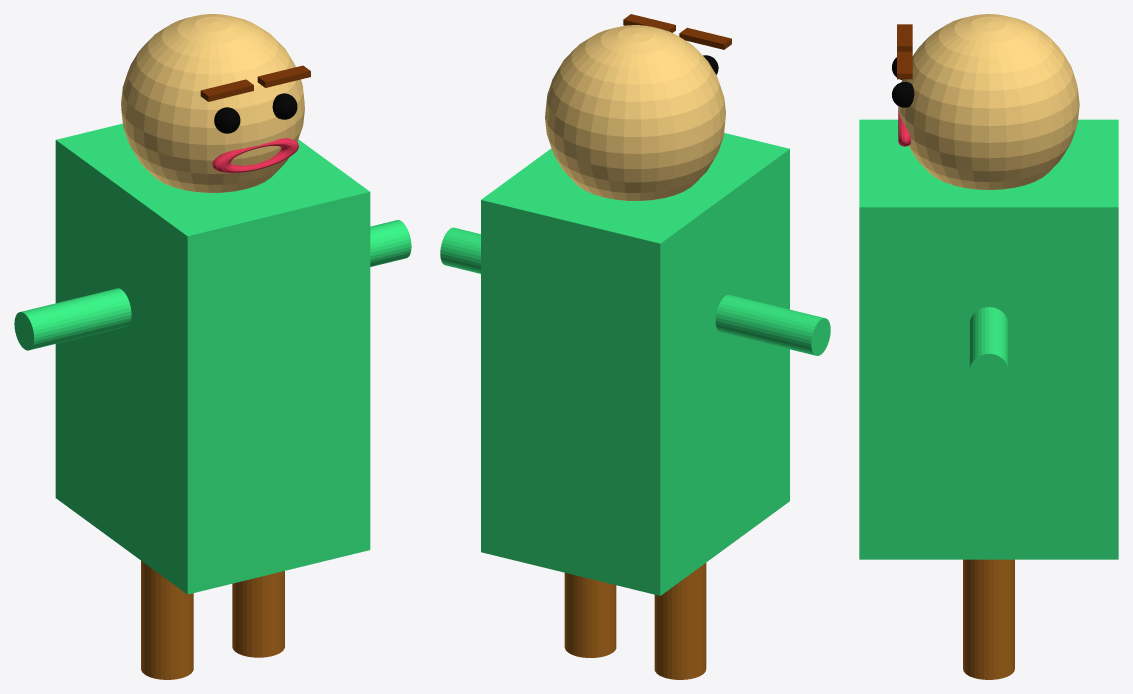
File: Character_JKS11.fbx
3 views of the same model, side by side, from view 1: azimuth 30°, elevation 25°; view 2: azimuth 150°, elevation 25°; view 3: azimuth 270°, elevation 25° (orthographic).
Visible parts, largest first — view 1: Body, Head, LeftLeg, LeftArm, RightLeg, RightArm, Mouth, LeftBrow, RightBrow; view 2: Body, Head, LeftLeg, LeftArm, RightLeg, RightArm, LeftBrow; view 3: Body, Head, RightLeg, RightArm, RightEye, RightBrow, LeftBrow.
Part boxes in pixels (bbox=[...]): Body: bbox=[55, 123, 370, 594]; Head: bbox=[121, 14, 304, 192]; LeftLeg: bbox=[141, 561, 193, 679]; LeftArm: bbox=[14, 288, 131, 350]; RightLeg: bbox=[232, 571, 284, 657]; RightArm: bbox=[370, 220, 411, 266]; Mouth: bbox=[212, 138, 298, 172]; LeftBrow: bbox=[200, 79, 253, 101]; RightBrow: bbox=[257, 65, 310, 87]; Body: bbox=[481, 133, 789, 595]; Head: bbox=[545, 25, 725, 200]; LeftLeg: bbox=[654, 563, 706, 679]; LeftArm: bbox=[715, 294, 830, 355]; RightLeg: bbox=[564, 573, 616, 657]; RightArm: bbox=[440, 227, 480, 273]; LeftBrow: bbox=[679, 27, 731, 49]; Body: bbox=[859, 119, 1118, 559]; Head: bbox=[898, 14, 1079, 189]; RightLeg: bbox=[963, 559, 1014, 679]; RightArm: bbox=[969, 307, 1008, 388]; RightEye: bbox=[892, 82, 914, 107]; RightBrow: bbox=[897, 51, 912, 79]; LeftBrow: bbox=[897, 24, 912, 51].
Size of the model in its own units: 331 by 532 by 200.
